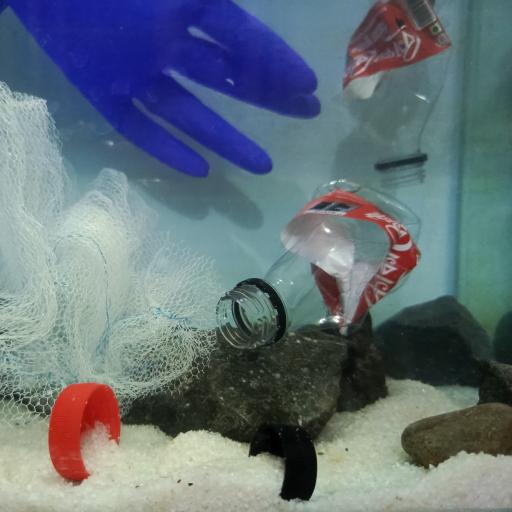bottle_cap: (49, 382, 123, 482), (250, 422, 318, 502)
glove: (1, 0, 321, 180)
net: (0, 79, 225, 419)
plastic_bottle: (217, 178, 424, 349), (344, 0, 452, 187)
